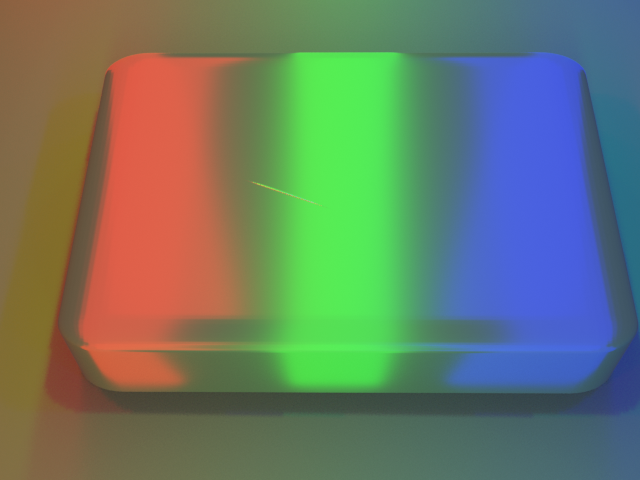scratch: (150, 115, 421, 269)
